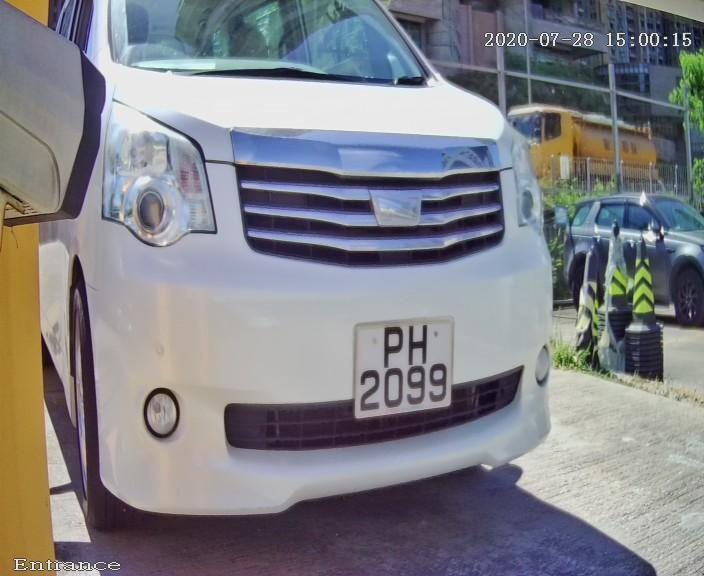privatecar: (23, 13, 617, 561)
